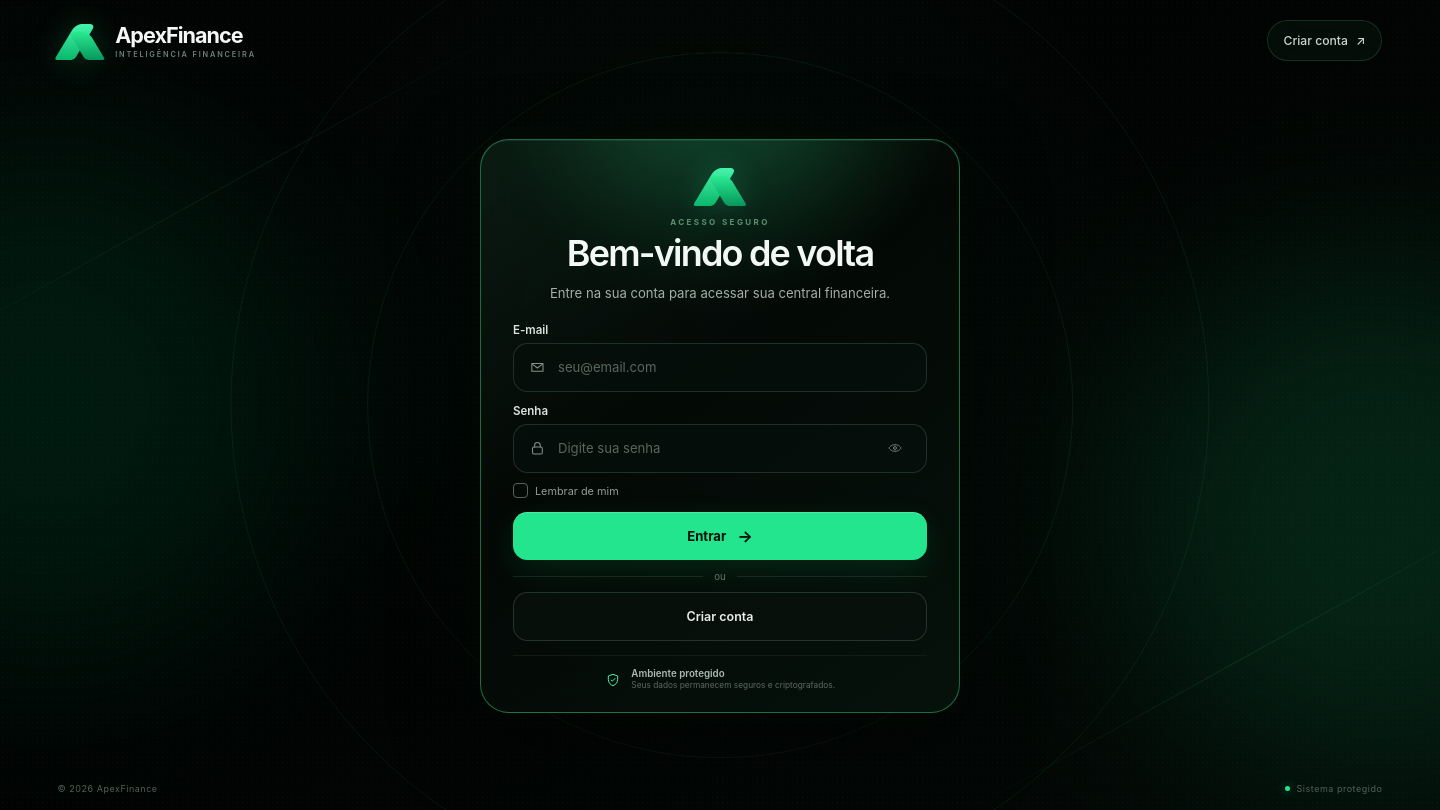
Test: Autenticação do ApexFinance › valida os campos obrigatórios antes de tentar entrar
Click the button "Entrar →".
click(720, 536)  # box [513,512,927,560]
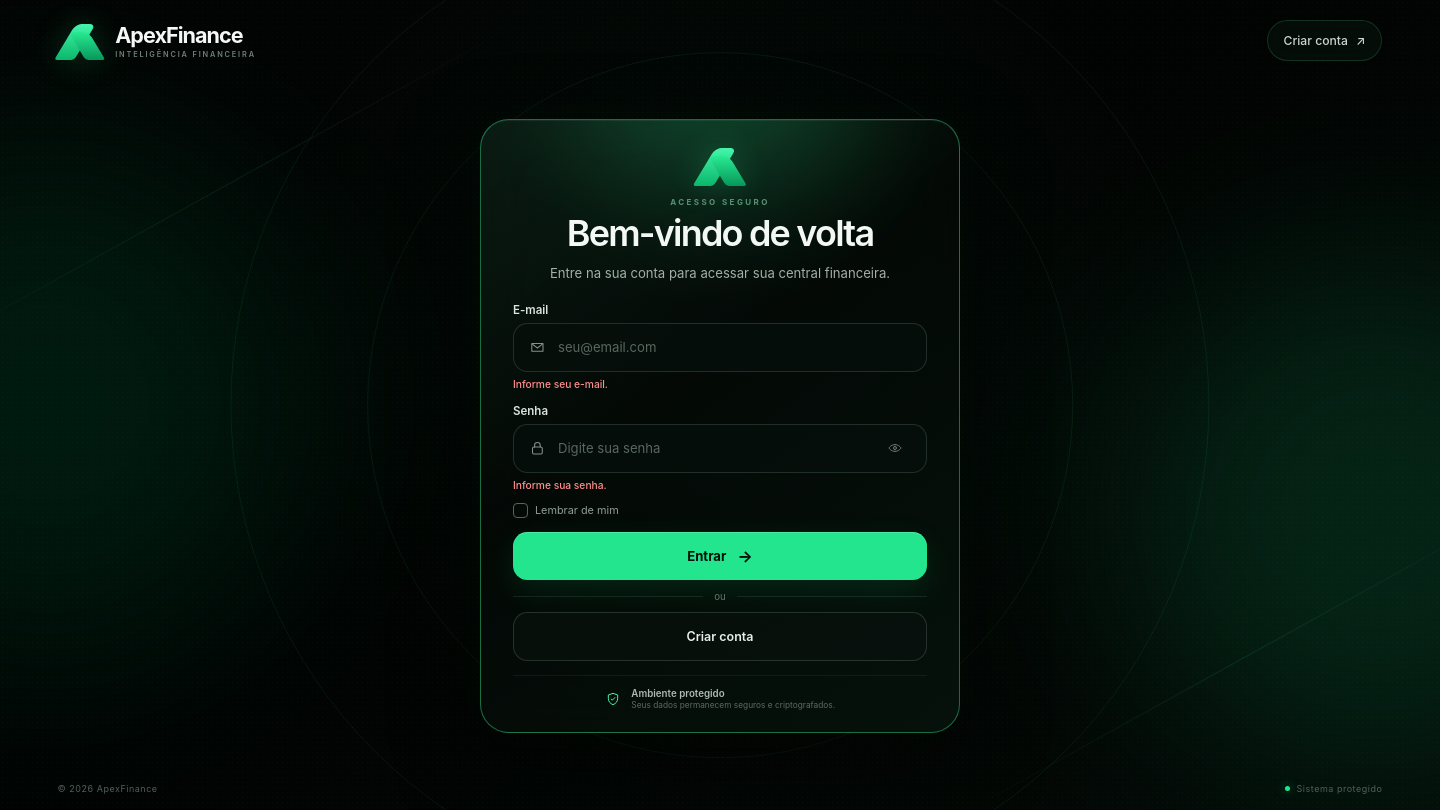
expect the text "Informe seu e-mail." is shown: met, box [513,378,608,390]
expect the text "Informe sua senha." is shown: met, box [513,479,607,491]
